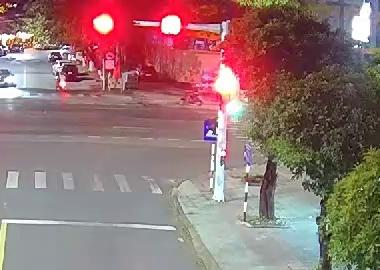red_light: (90, 10, 119, 37), (158, 11, 183, 39)
stop_line: (3, 219, 175, 230)
